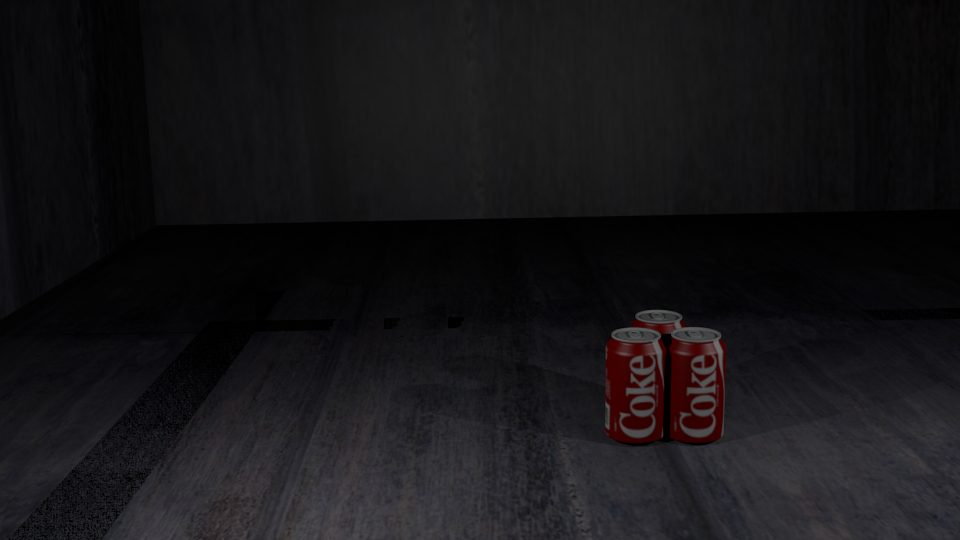cola_can: (665, 327, 725, 439), (606, 328, 665, 440), (631, 310, 686, 416)
